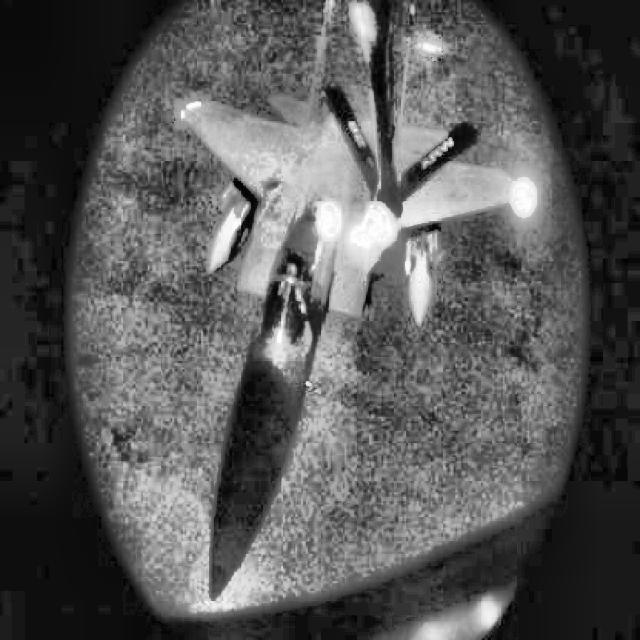F15: (173, 2, 529, 600)
